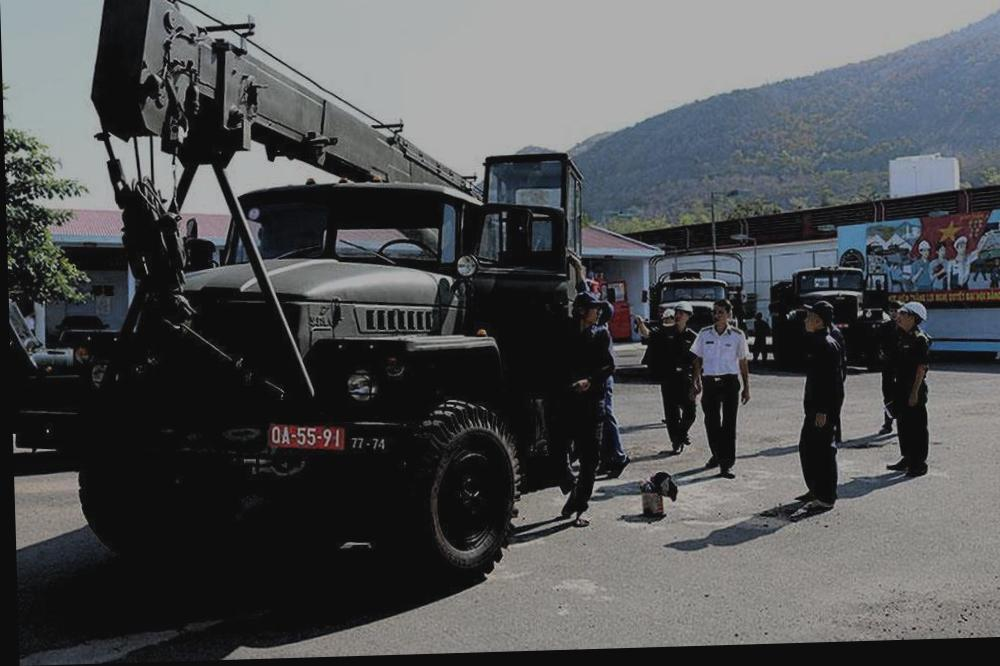License_Plate: (265, 418, 351, 461)
